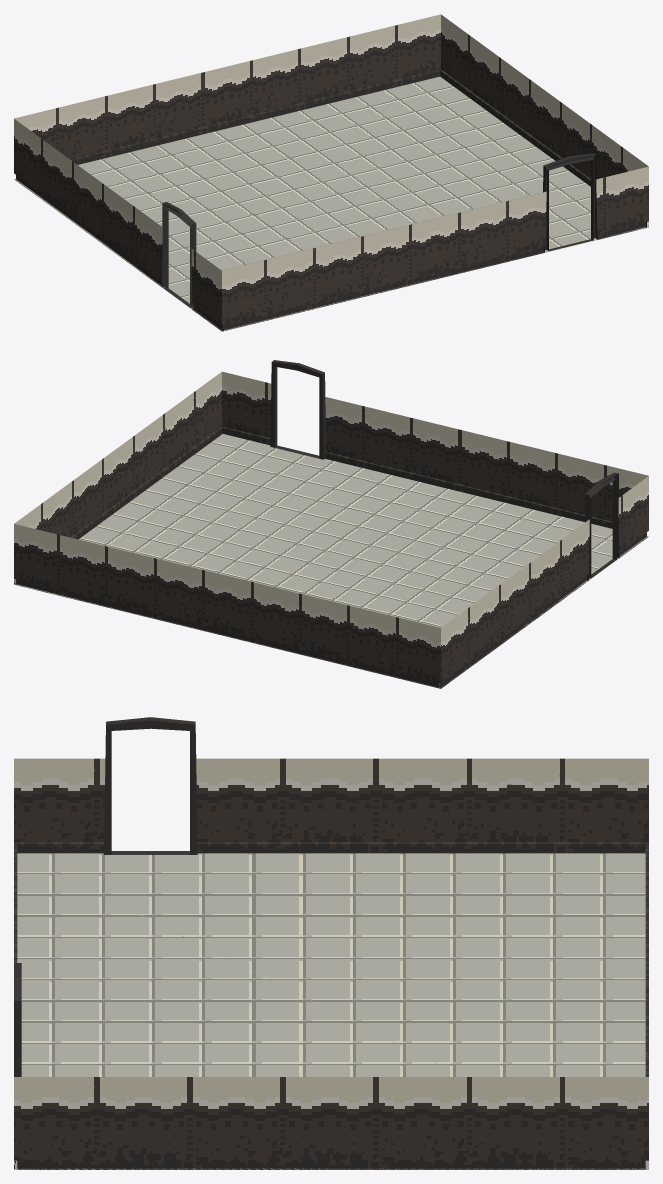
File: DiningRoom.obj
The picture shows the model from 3 angles, top to bottom: view 1: azimuth 30°, elevation 25°; view 2: azimuth 150°, elevation 25°; view 3: azimuth 270°, elevation 25°; orthographic projection. The views are drawn at different scales.
Parts seen in each view (by area): view 1: DiningRoom_Plane.008; view 2: DiningRoom_Plane.008; view 3: DiningRoom_Plane.008.
Part boxes in pixels (bbox=[...]): DiningRoom_Plane.008: bbox=[14, 14, 648, 331]; DiningRoom_Plane.008: bbox=[14, 360, 648, 688]; DiningRoom_Plane.008: bbox=[14, 717, 648, 1169].
Bounding box in the file's own units: 11 × 2.17 × 9.28.
